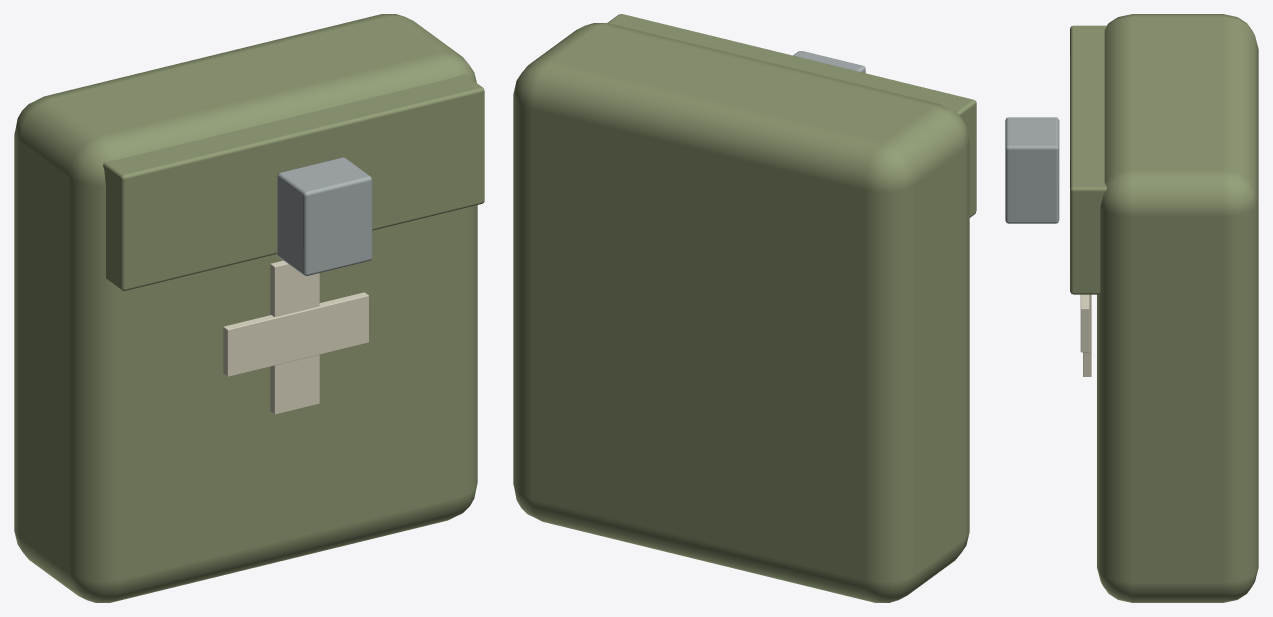
Rendered from field-medicine-and-recovery-trauma-pouch-fc8f2359__3034.glb.
3 renders of one model, left to right at view 1: azimuth 30°, elevation 25°; view 2: azimuth 150°, elevation 25°; view 3: azimuth 270°, elevation 25°, orthographic. The views are drawn at different scales.
Parts seen in each view (by area): view 1: trauma-pouch, flap/canvas; view 2: trauma-pouch, flap/canvas; view 3: trauma-pouch, flap/canvas.
Boxes of the visible parts, x1=… form: trauma-pouch: x1=14, y1=14, x2=477, y2=602; flap/canvas: x1=103, y1=74, x2=484, y2=290; trauma-pouch: x1=513, y1=23, x2=969, y2=602; flap/canvas: x1=607, y1=14, x2=976, y2=217; trauma-pouch: x1=1005, y1=14, x2=1258, y2=602; flap/canvas: x1=1070, y1=25, x2=1106, y2=294.
Size of the model in its own units: 0.2 by 0.22 by 0.1175.
